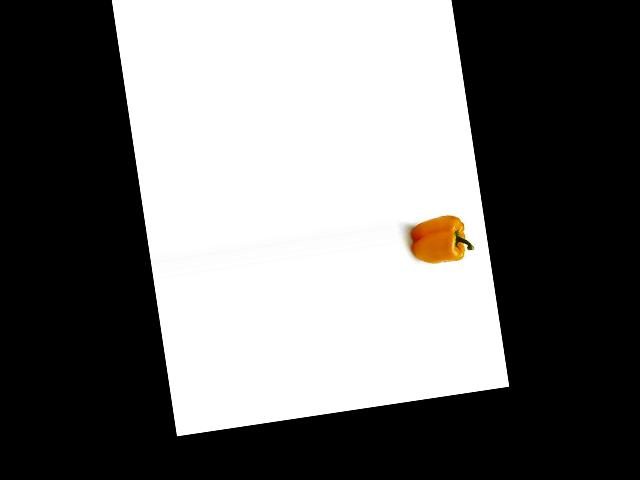bell_pepper: (407, 211, 478, 272)
